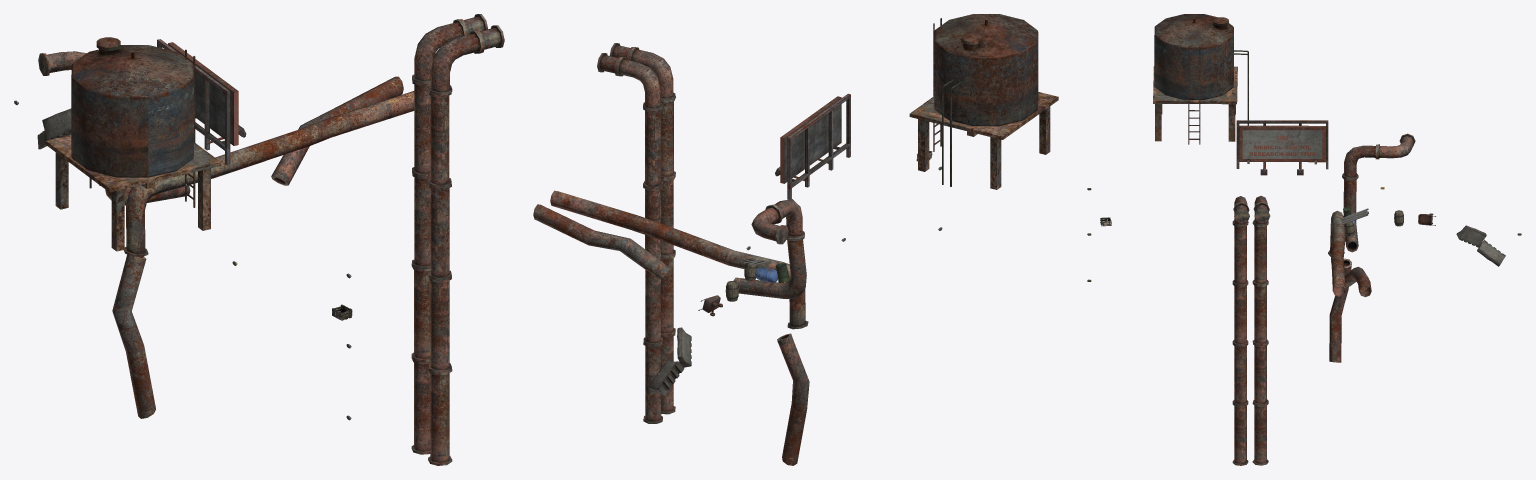
File: FrontAreaProps.FBX
3 renders of one model, left to right at view 1: azimuth 30°, elevation 25°; view 2: azimuth 150°, elevation 25°; view 3: azimuth 270°, elevation 25°, orthographic. The views are drawn at different scales.
Visible parts, largest first — view 1: FrontAreaProps; view 2: FrontAreaProps; view 3: FrontAreaProps.
Part boxes in pixels (x1,y1,x2,y2): FrontAreaProps: (14, 14, 504, 465); FrontAreaProps: (533, 14, 1058, 465); FrontAreaProps: (1087, 14, 1521, 465).
Bounding box in the file's own units: 2154 × 2336 × 2738.
1 material, 1 textured.
